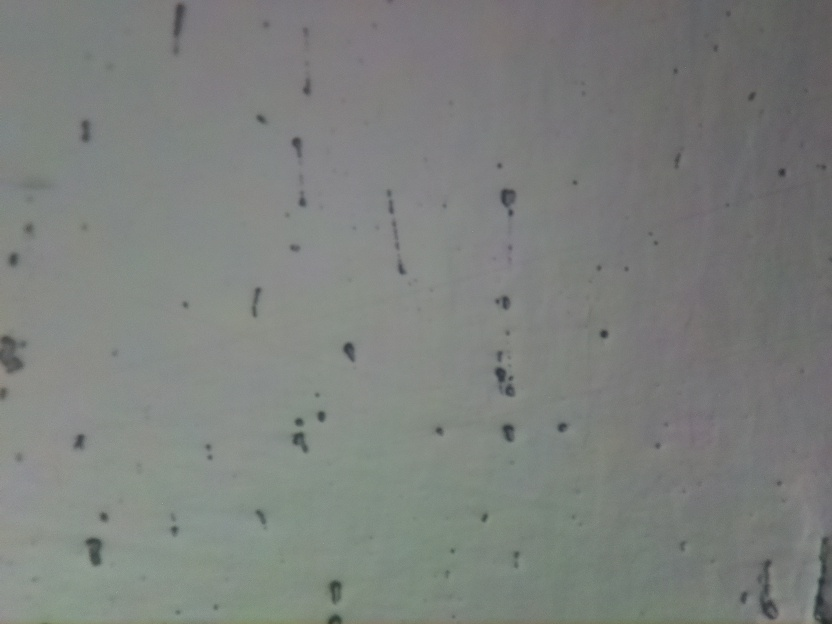crack: (811, 532, 832, 624)
